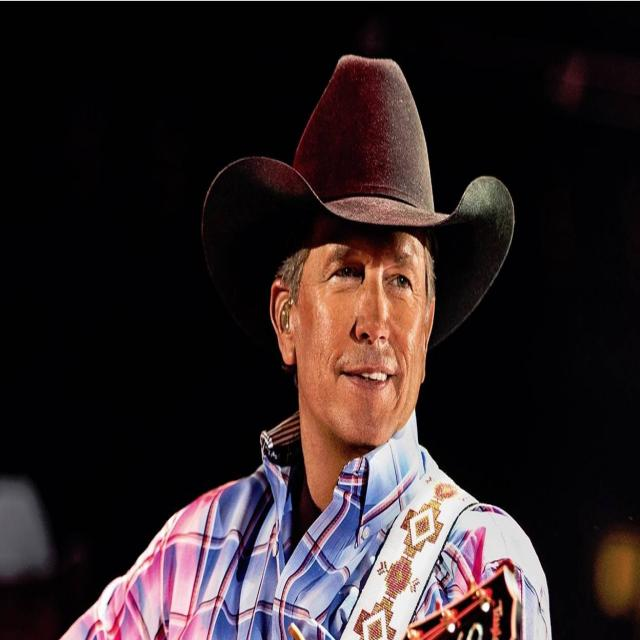hat: (201, 52, 516, 452)
